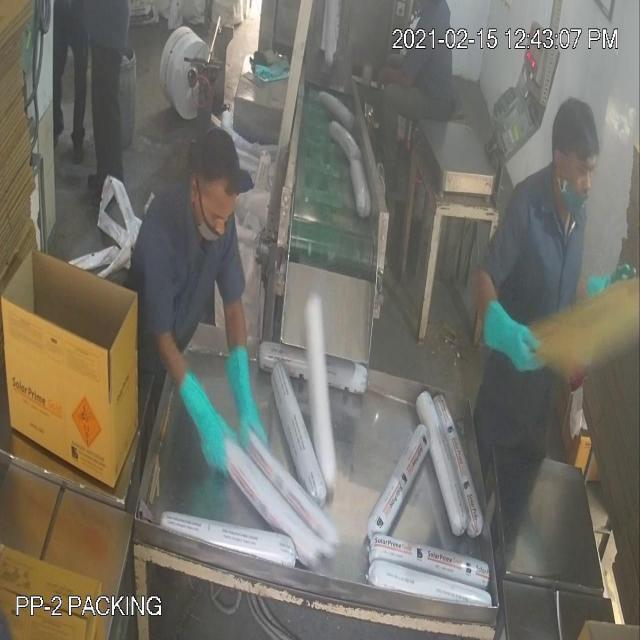Gloves: (50, 46, 515, 407)
